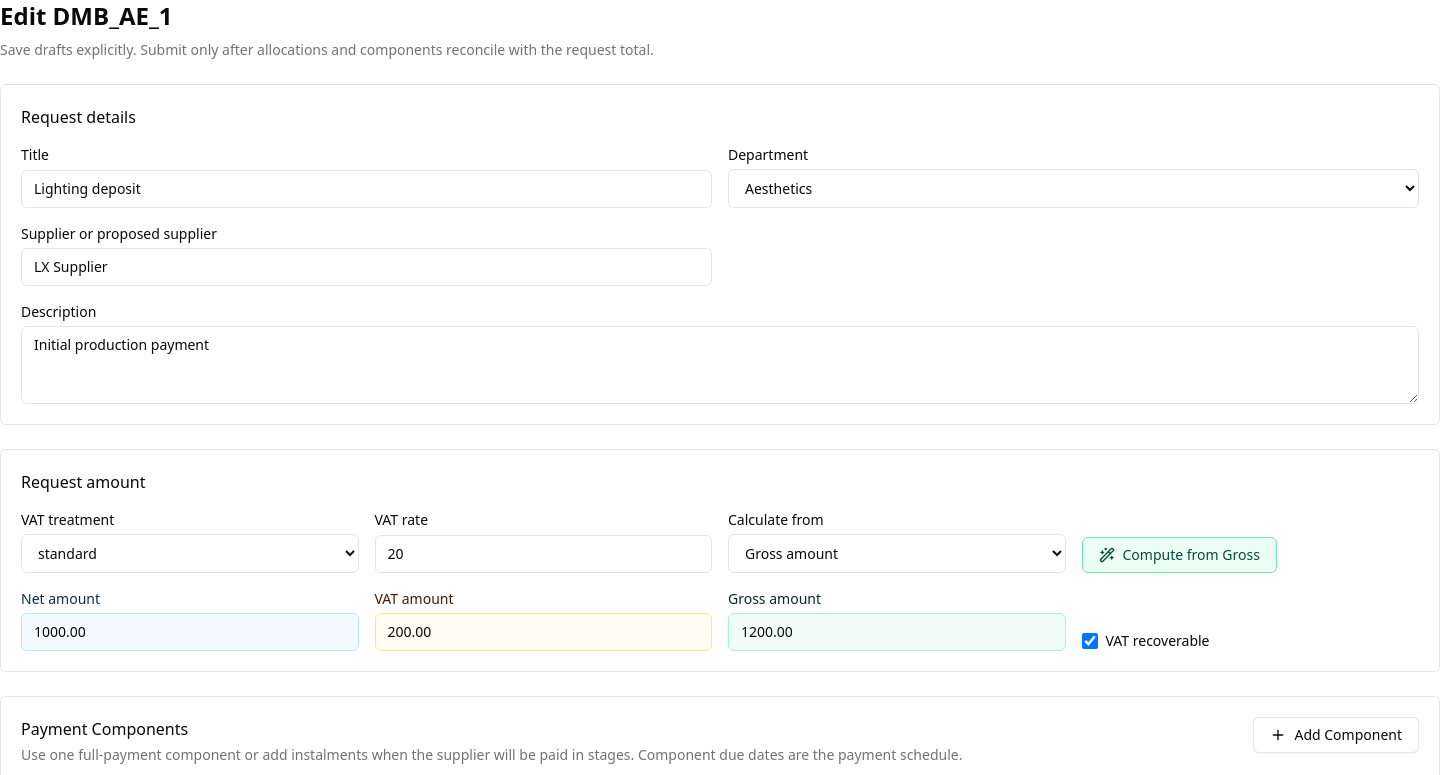
Stage 5 spending request panels › adds editable payment components and shows reconciliation status
The width and height of the screenshot is (1440, 775).
Click the button "Add Component" at (1336,735), box [1253,717,1419,753]
(page scrolled)
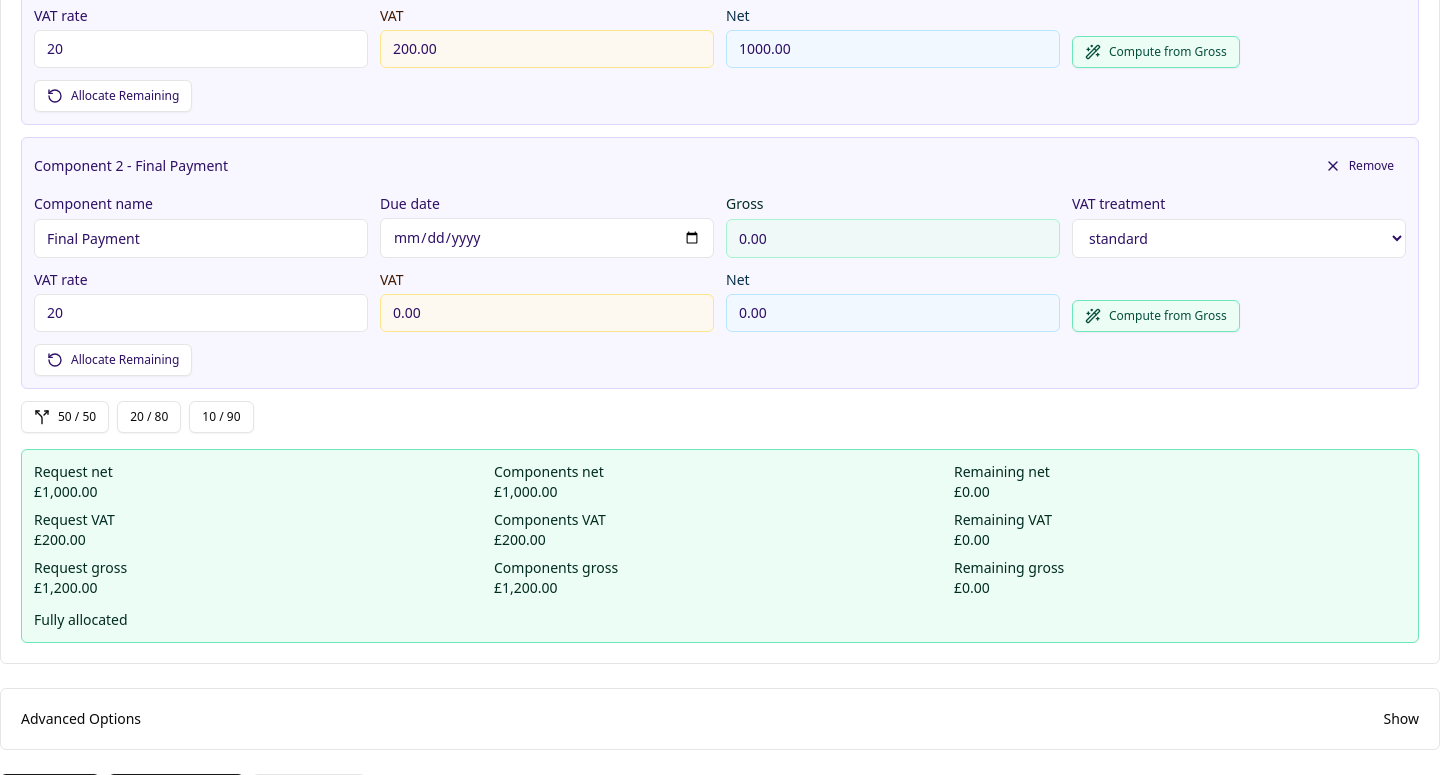
expect the text "Component 2 - Final Payment" is shown: met, box [34,156,228,176]
expect the button "50 / 50" is shown: met, box [21,401,109,433]
expect the button "20 / 80" is shown: met, box [117,401,181,433]
